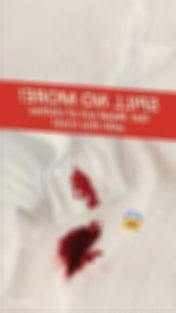blood: (56, 223, 102, 278), (71, 169, 101, 208)
